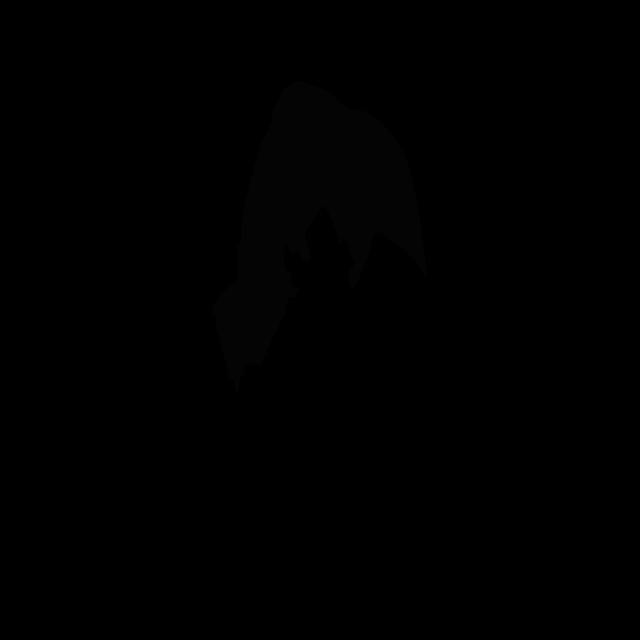soft_plastic: (212, 81, 427, 391)
